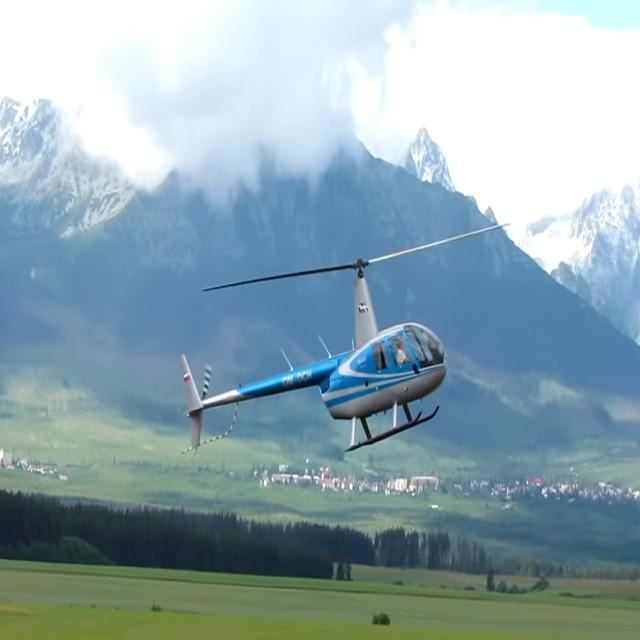CIV_HELO: (178, 255, 450, 456)
